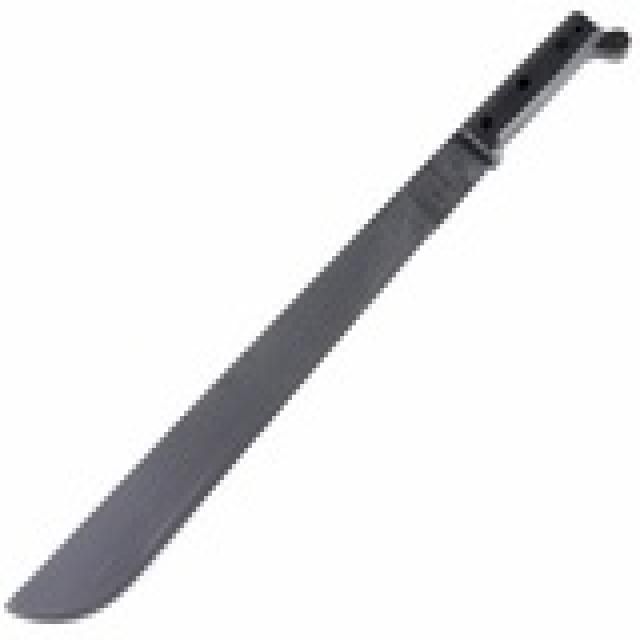Knife: (6, 22, 606, 626)
